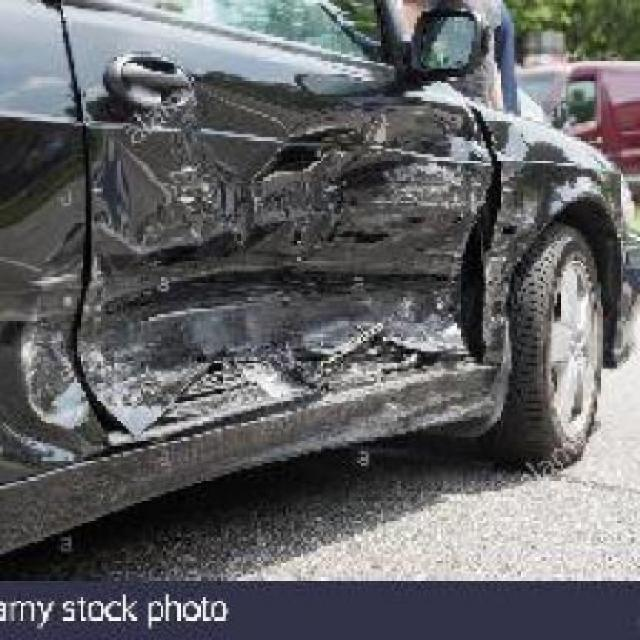damaged-door: (63, 0, 511, 449)
